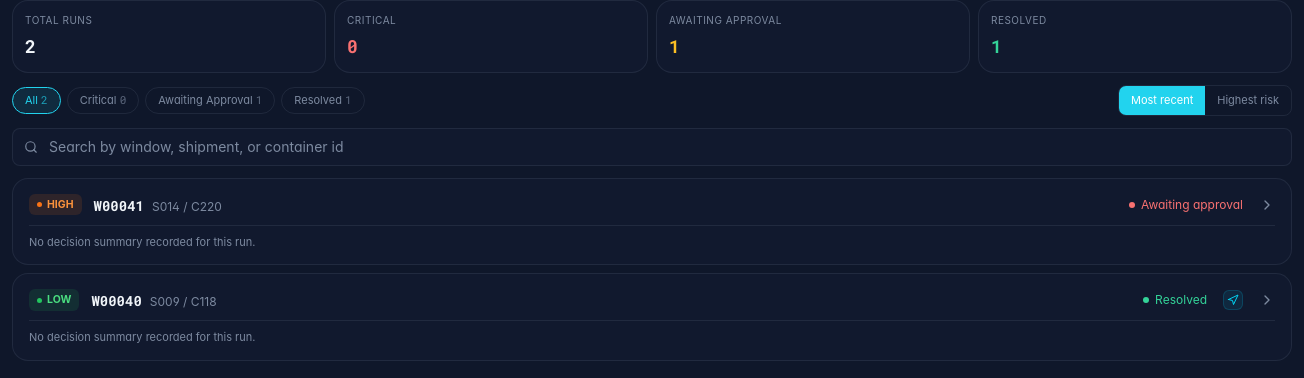
Test: AgentRunList › shows all rows again when the All chip is clicked after filtering
Click the button "Resolved 1". click: (323, 100)
box: x1=281 y1=87 x2=365 y2=114
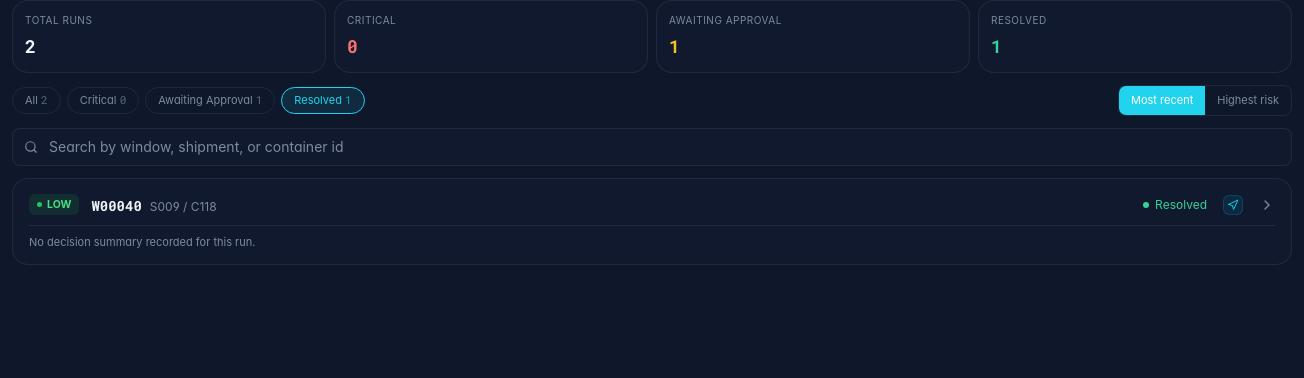
Click the button "All 2". click: (36, 100)
box: x1=12 y1=87 x2=61 y2=114
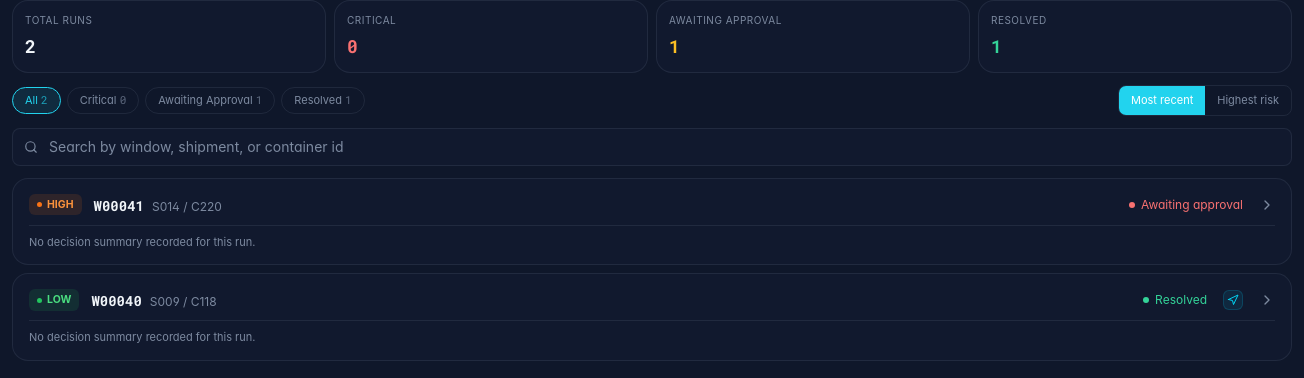
Expected: the text "W00040" is shown, x1=91 y1=291 x2=142 y2=310
Expected: the text "W00041" is shown, x1=94 y1=196 x2=144 y2=214
